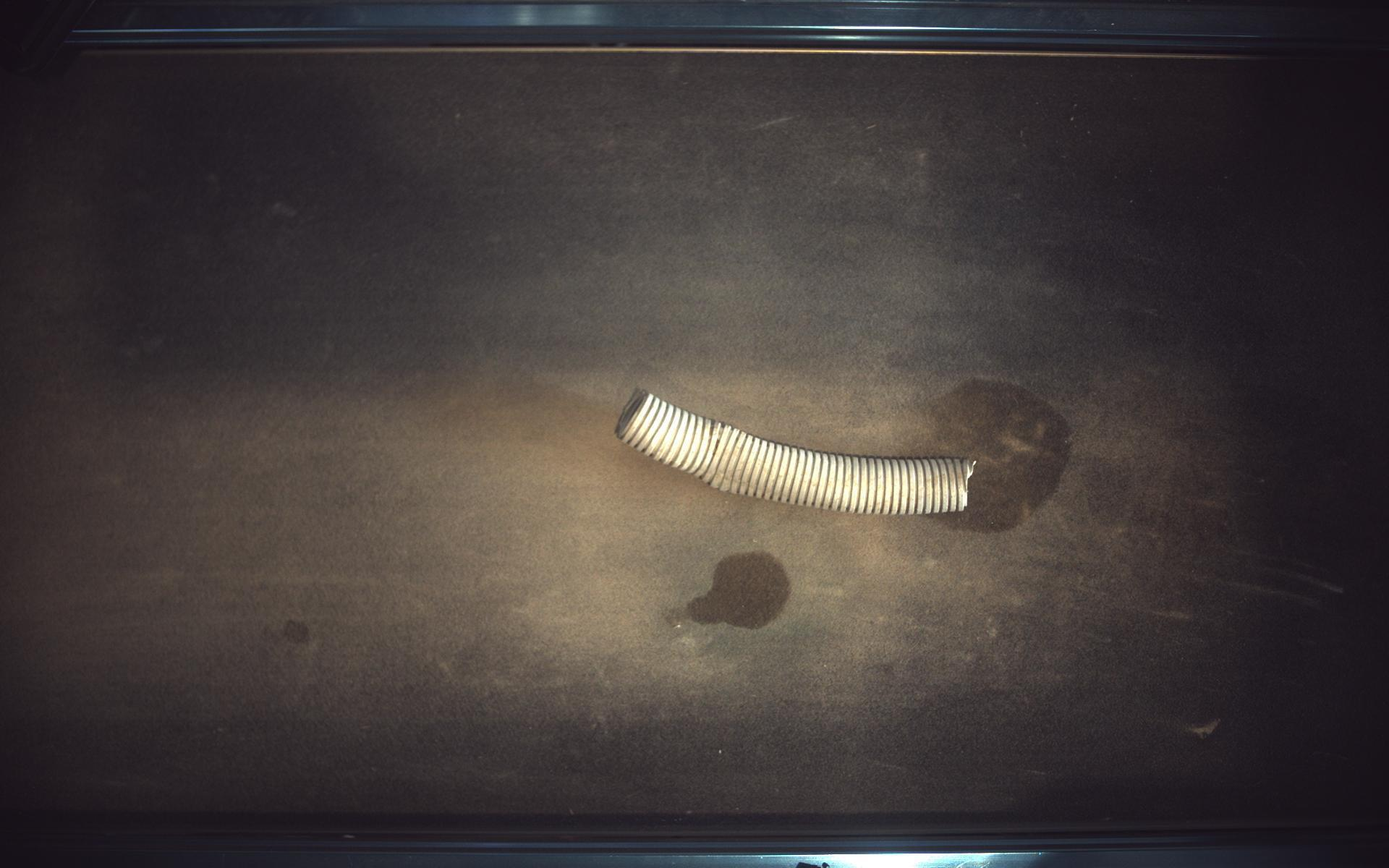pipes: (618, 388, 977, 515)
